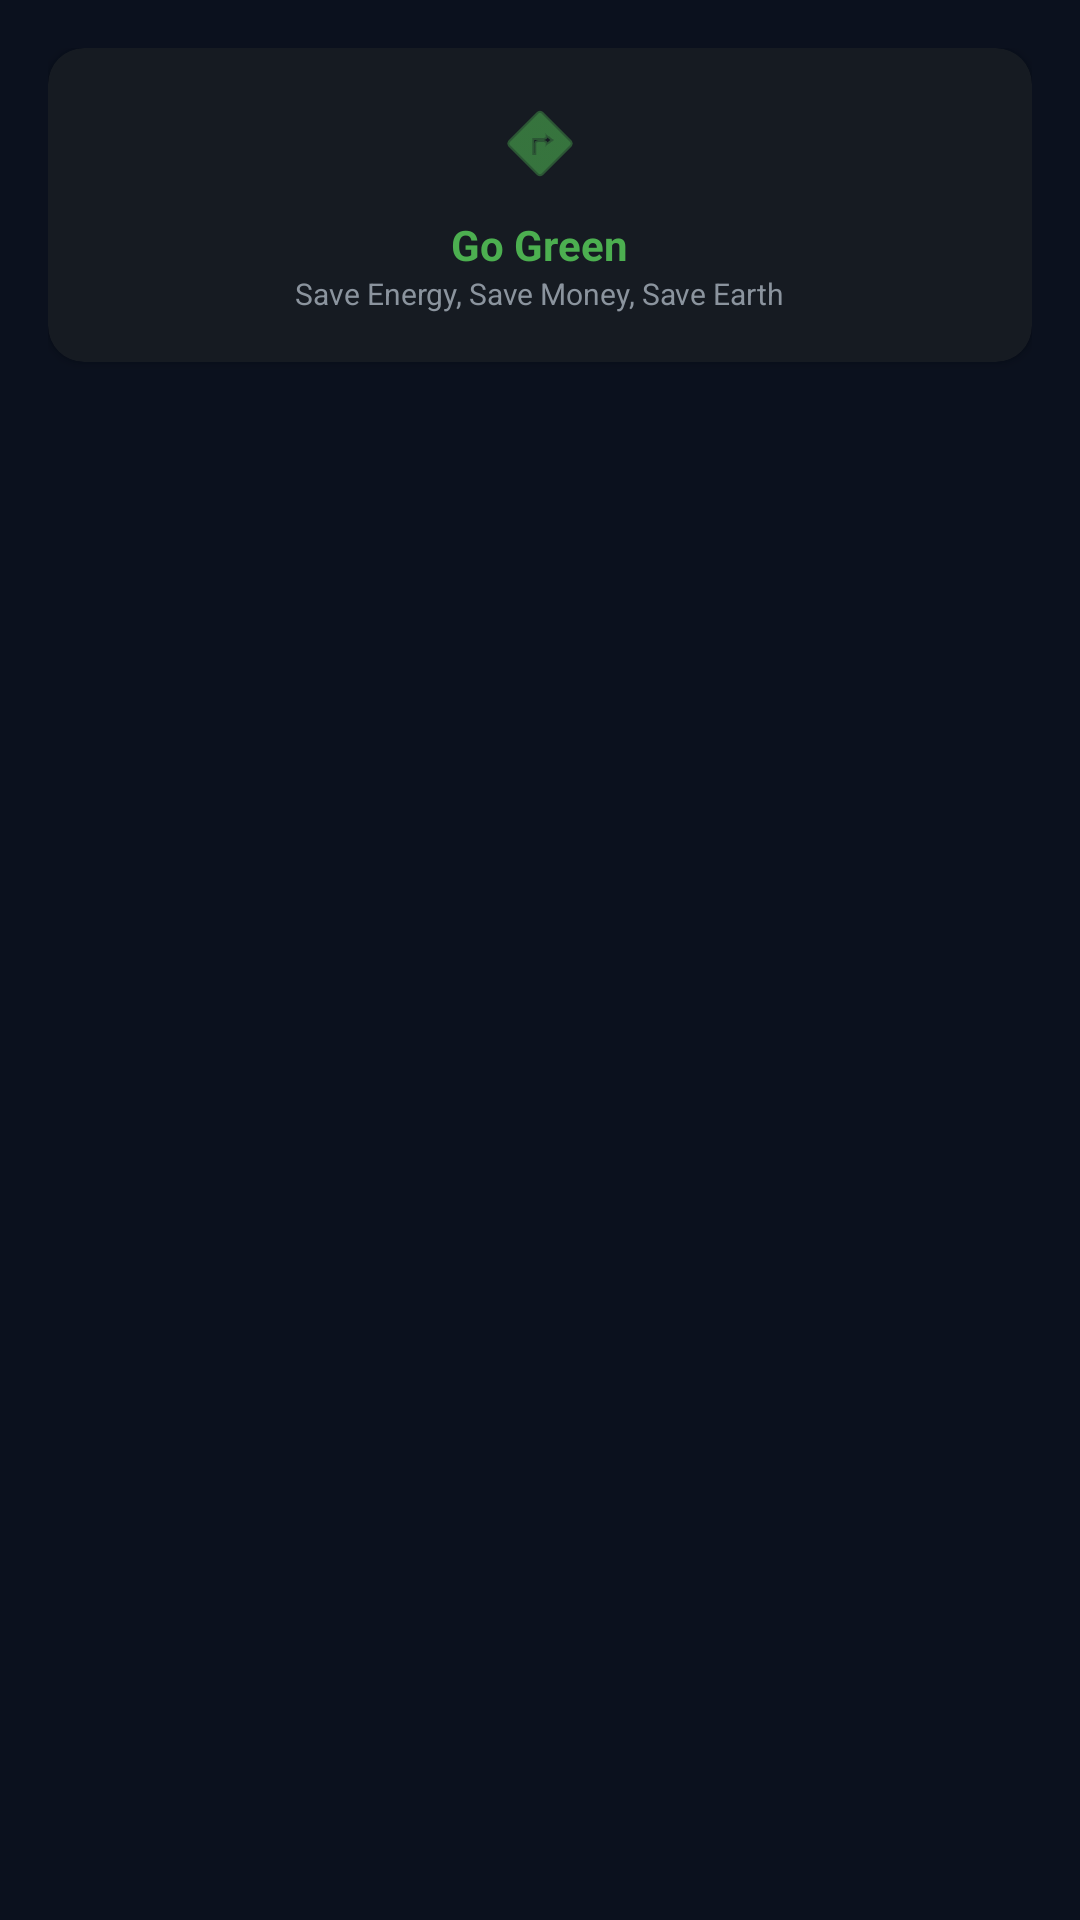

Screen size 1080px x 1920px. Icon name, then its center in pixels as [x,y]:
directions: [540,143]
